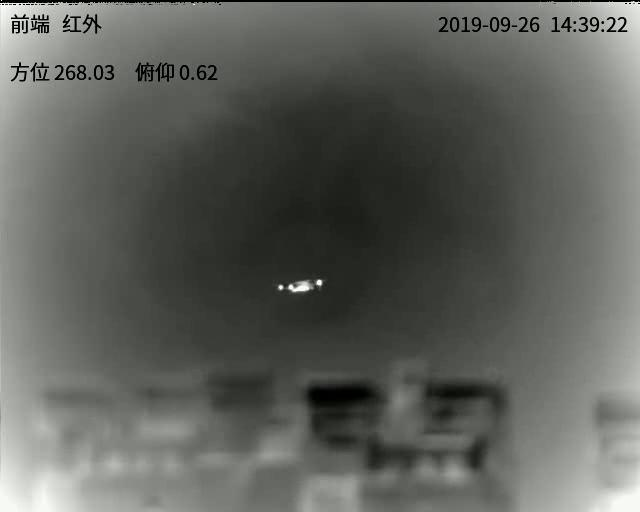DRONE: (275, 277, 325, 296)
